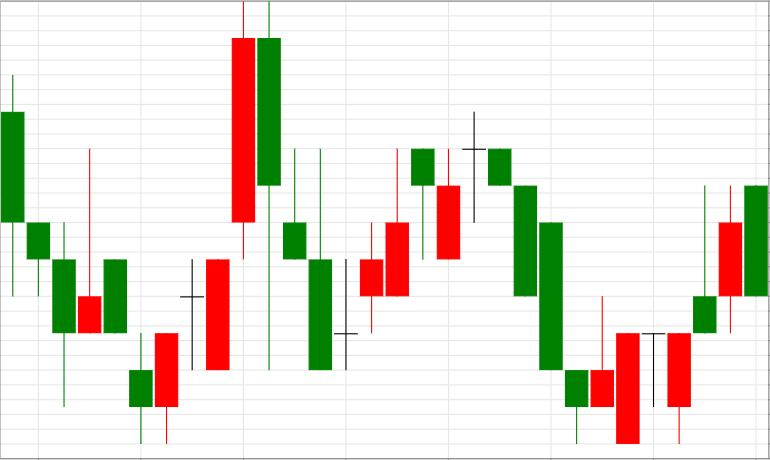hanging_man_fall: (334, 149, 434, 371)
inverse_hammer_rise: (1, 74, 101, 408)
shooting_star_fall: (591, 186, 717, 444)
three_black_crows_fall: (156, 0, 332, 445)
